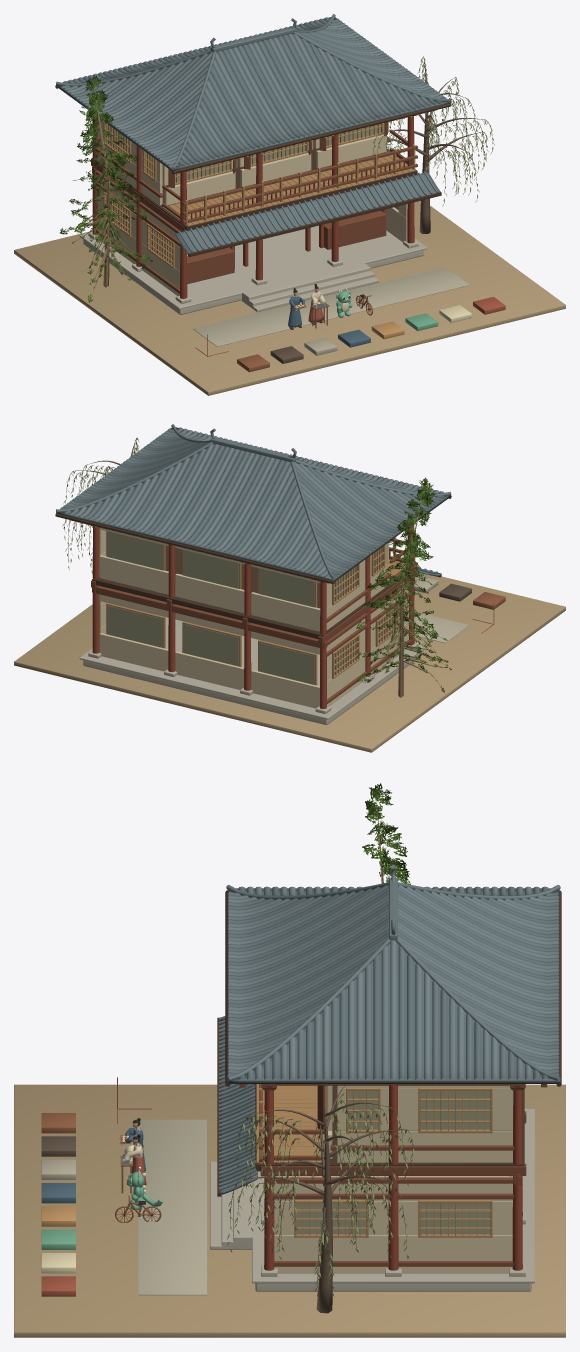
The model's file is natural-unified.glb.
The picture shows the model from 3 angles, top to bottom: view 1: azimuth 30°, elevation 25°; view 2: azimuth 150°, elevation 25°; view 3: azimuth 270°, elevation 25°; orthographic projection. The views are drawn at different scales.
Visible parts, largest first — view 1: earth study pad, runtime-Grey clay tile 0, runtime-Pale worn stone, runtime-Grey clay tile 2, runtime-Warm weathered structural timber, runtime-Grey clay tile 3, runtime-Grey clay tile 1, runtime-Warm lime plaster, runtime-Freshly cut end grain and joinery, tile1-curved hip roof shell, stone walking strip, leaf cards (+7 smaller); view 2: earth study pad, runtime-Warm lime plaster, runtime-Muted window paper, runtime-Grey clay tile 2, runtime-Grey clay tile 0, runtime-Grey clay tile 1, runtime-Grey clay tile 3, tile1-curved hip roof shell.001, runtime-Pale worn stone, leaf cards, runtime-Warm weathered structural timber, runtime-Muted vermilion columns (+7 smaller); view 3: earth study pad, runtime-Grey clay tile 2, runtime-Warm lime plaster, runtime-Grey clay tile 0, runtime-Grey clay tile 3, runtime-Grey clay tile 1, stone walking strip, runtime-Pale worn stone, runtime-Warm weathered structural timber, runtime-Freshly cut end grain and joinery, tile1-curved hip roof shell.003, runtime-Muted window paper (+13 smaller).
Boxes of the visible parts, x1,y1,x2,y2 form: earth study pad: [14, 200, 565, 395]; runtime-Grey clay tile 0: [63, 18, 440, 254]; runtime-Pale worn stone: [79, 225, 427, 314]; runtime-Grey clay tile 2: [56, 14, 451, 249]; runtime-Warm weathered structural timber: [91, 110, 436, 293]; runtime-Grey clay tile 3: [66, 19, 440, 248]; runtime-Grey clay tile 1: [60, 17, 446, 251]; runtime-Warm lime plaster: [98, 118, 407, 295]; runtime-Freshly cut end grain and joinery: [103, 112, 426, 268]; tile1-curved hip roof shell: [173, 33, 450, 170]; stone walking strip: [193, 267, 469, 346]; leaf cards: [60, 75, 152, 302]; earth study pad: [14, 572, 565, 752]; runtime-Warm lime plaster: [99, 527, 408, 708]; runtime-Muted window paper: [107, 531, 398, 684]; runtime-Grey clay tile 2: [56, 424, 451, 580]; runtime-Grey clay tile 0: [63, 428, 440, 576]; runtime-Grey clay tile 1: [60, 427, 446, 577]; runtime-Grey clay tile 3: [66, 430, 440, 575]; tile1-curved hip roof shell.001: [56, 444, 333, 580]; runtime-Pale worn stone: [79, 617, 426, 725]; leaf cards: [356, 477, 451, 692]; runtime-Warm weathered structural timber: [70, 520, 417, 703]; runtime-Muted vermilion columns: [92, 525, 414, 708]; earth study pad: [14, 1084, 565, 1337]; runtime-Grey clay tile 2: [219, 865, 560, 1186]; runtime-Warm lime plaster: [274, 1085, 513, 1273]; runtime-Grey clay tile 0: [219, 886, 558, 1194]; runtime-Grey clay tile 3: [219, 885, 558, 1189]; runtime-Grey clay tile 1: [219, 886, 558, 1182]; stone walking strip: [138, 1119, 207, 1295]; runtime-Pale worn stone: [210, 1108, 534, 1291]; runtime-Warm weathered structural timber: [239, 1084, 547, 1266]; runtime-Freshly cut end grain and joinery: [256, 1084, 512, 1237]; tile1-curved hip roof shell.003: [228, 943, 558, 1083]; runtime-Muted window paper: [296, 1091, 490, 1234].
Bounding box in the file's own units: 19.03 × 10.28 × 16.
43 materials, 3 textured.
